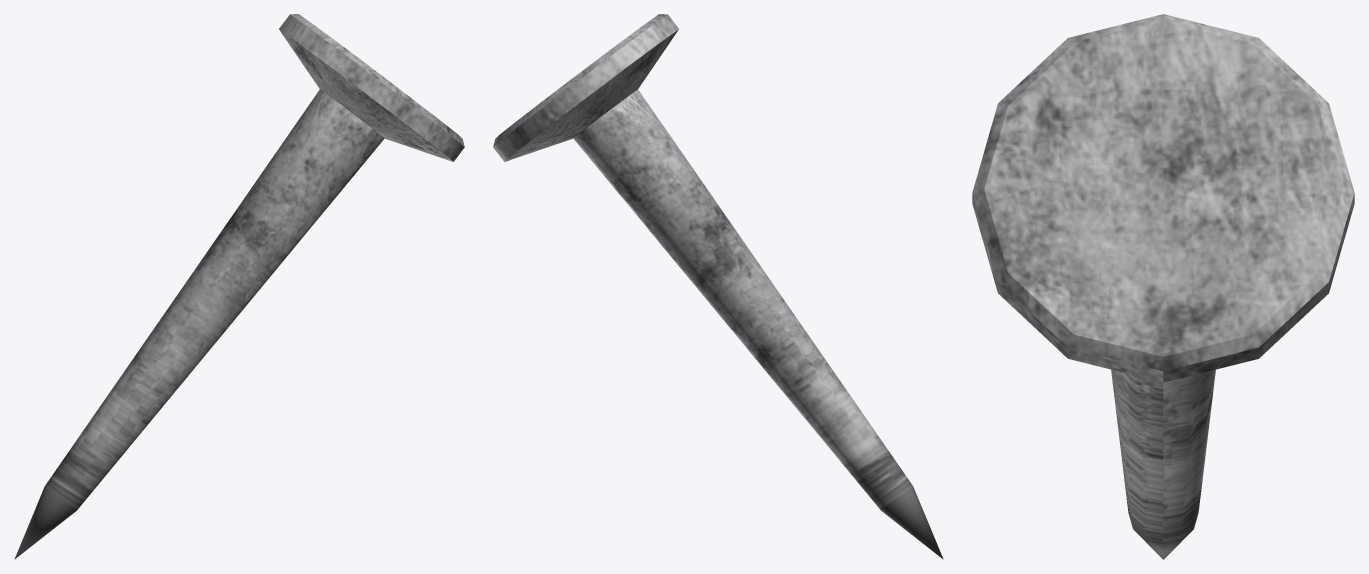
Rendered from Clou_R.obj.
The picture shows the model from 3 angles, left to right: view 1: azimuth 30°, elevation 25°; view 2: azimuth 150°, elevation 25°; view 3: azimuth 270°, elevation 25°; orthographic projection. The views are drawn at different scales.
Parts seen in each view (by area): view 1: clou; view 2: clou; view 3: clou.
Boxes of the visible parts, box(x1,y1,x2,y2) form: clou: box(14, 14, 464, 559); clou: box(493, 14, 943, 559); clou: box(972, 14, 1354, 559).
Size of the model in its own units: 67.69 by 68.97 by 30.11.
Materials: 1 (1 with a texture image).
